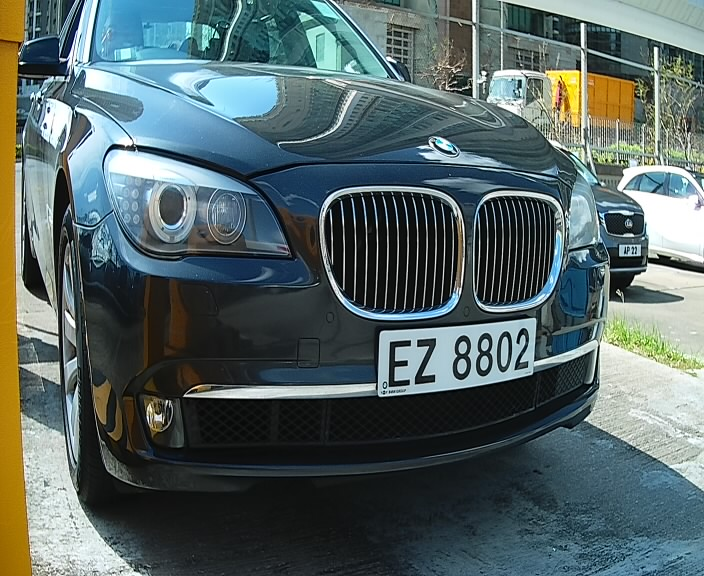Car: (12, 2, 620, 532)
License Plate: (367, 312, 544, 406)
